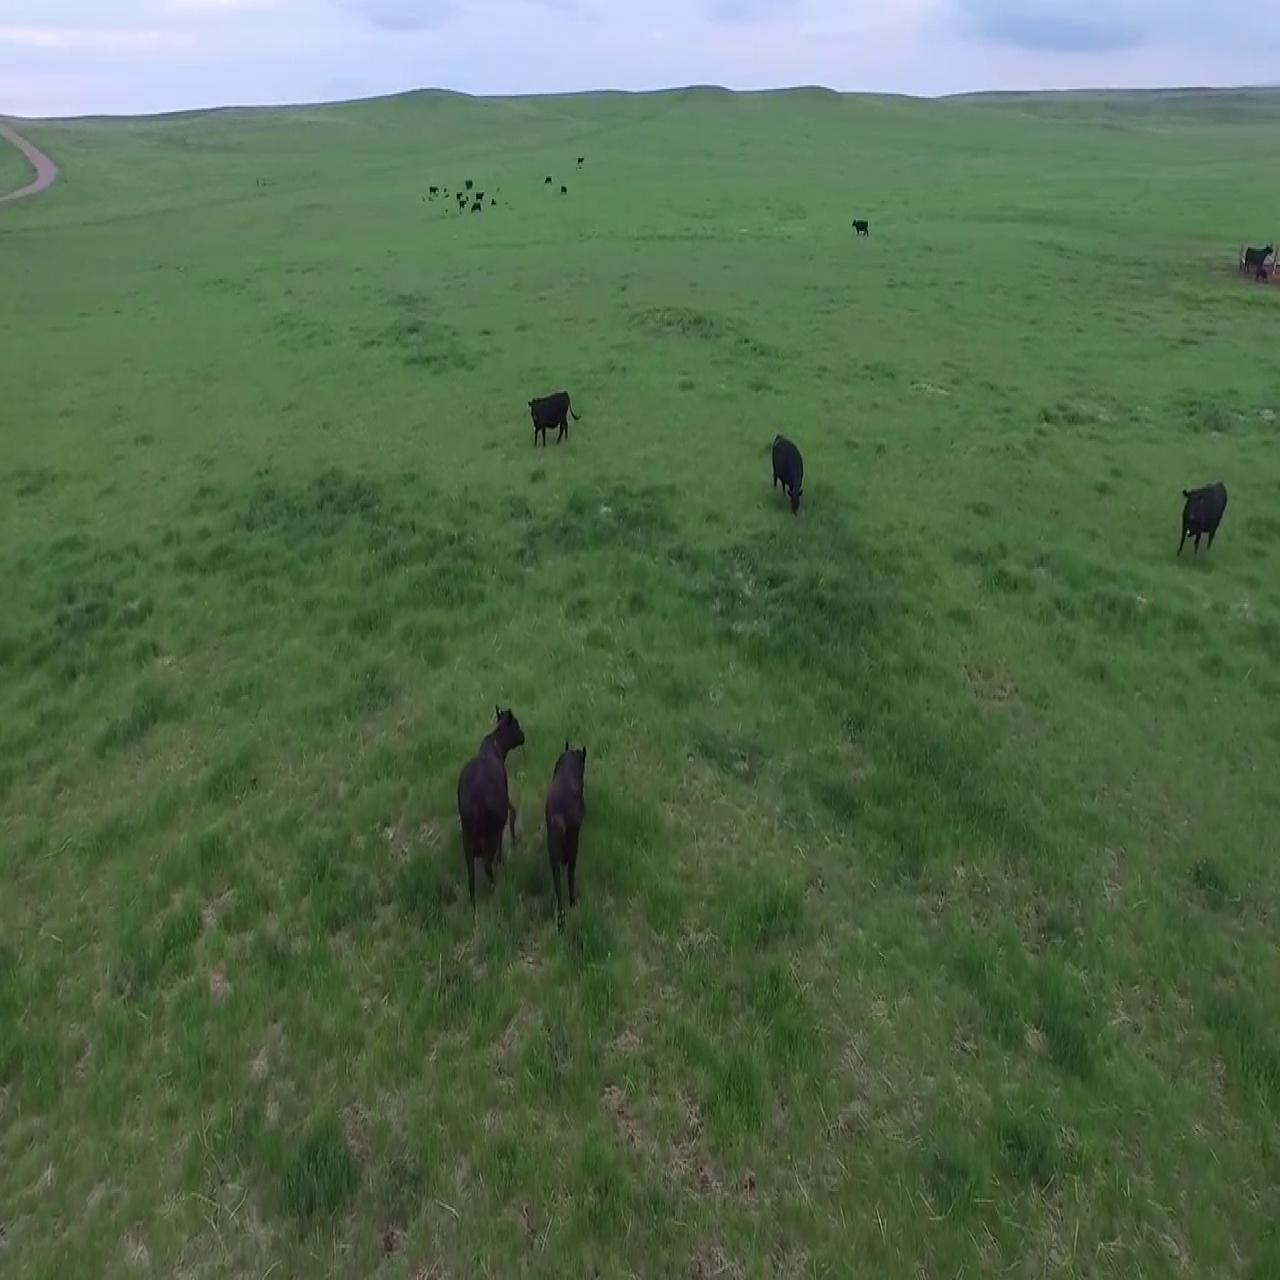cow: (451, 696, 524, 900), (542, 737, 592, 919), (1175, 471, 1234, 570), (767, 428, 809, 518), (526, 388, 577, 452), (1235, 241, 1280, 292), (847, 211, 877, 245)
